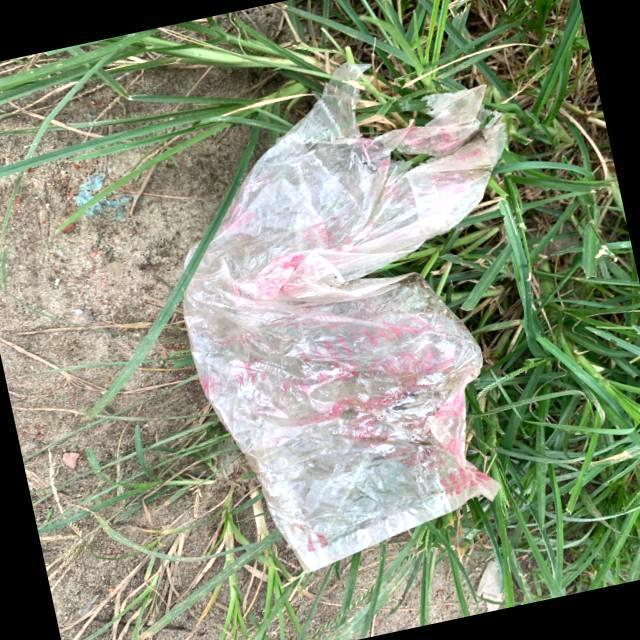polythene: (234, 101, 484, 529)
